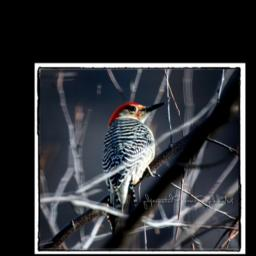Woodpecker: (99, 96, 169, 213)
